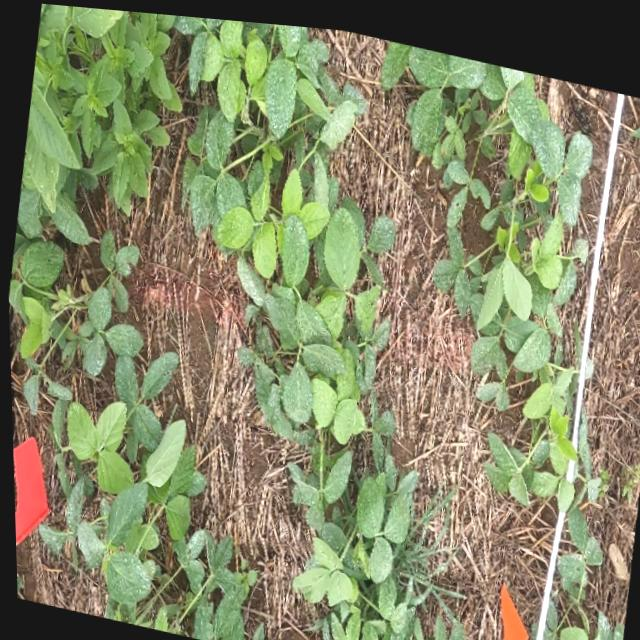caruru_weed: (15, 3, 180, 243)
grassy_weed: (392, 473, 460, 616)
soy_plant: (176, 12, 460, 640), (383, 35, 621, 640), (9, 232, 259, 640)
